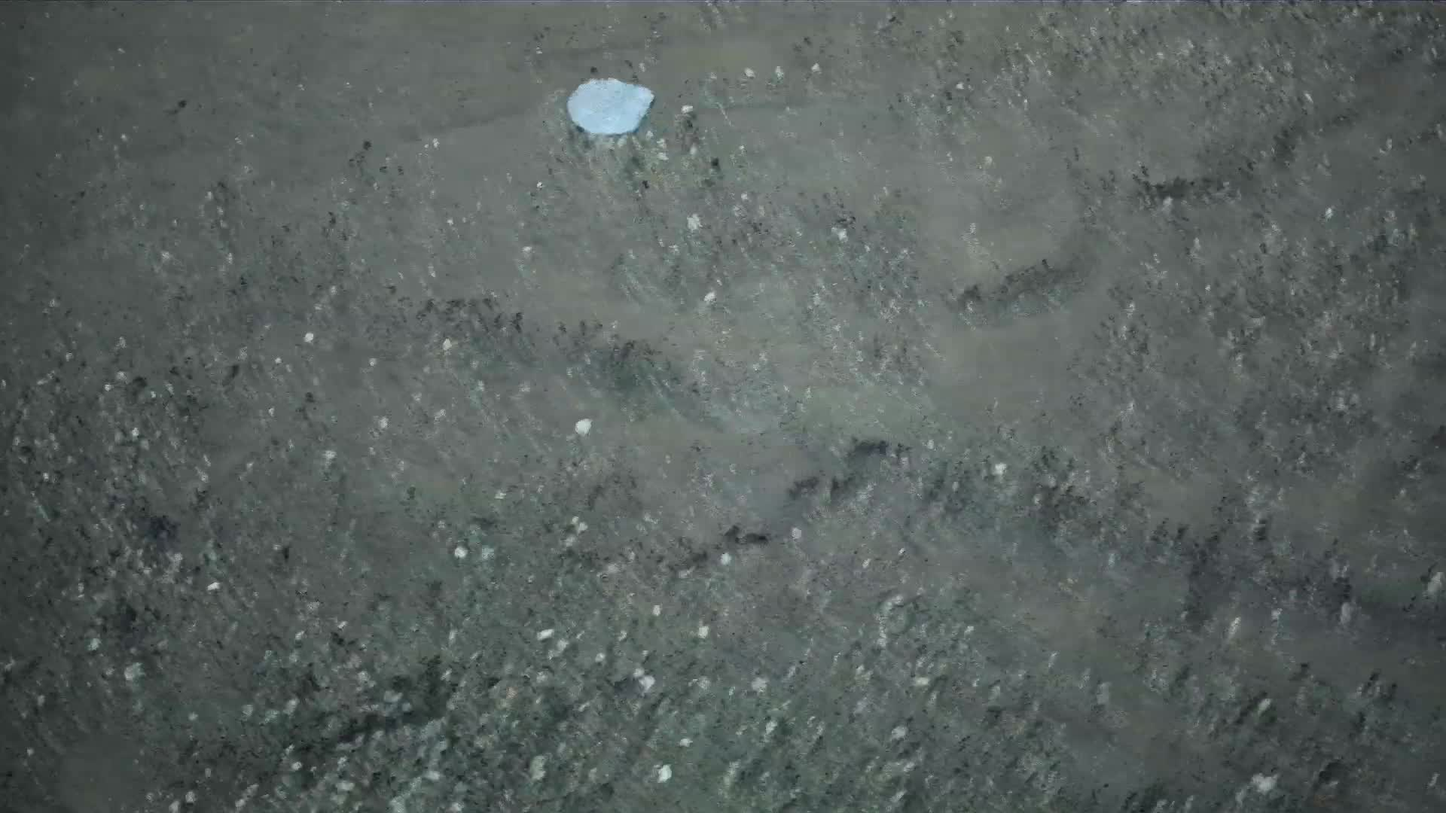Target: (561, 73, 657, 144)
